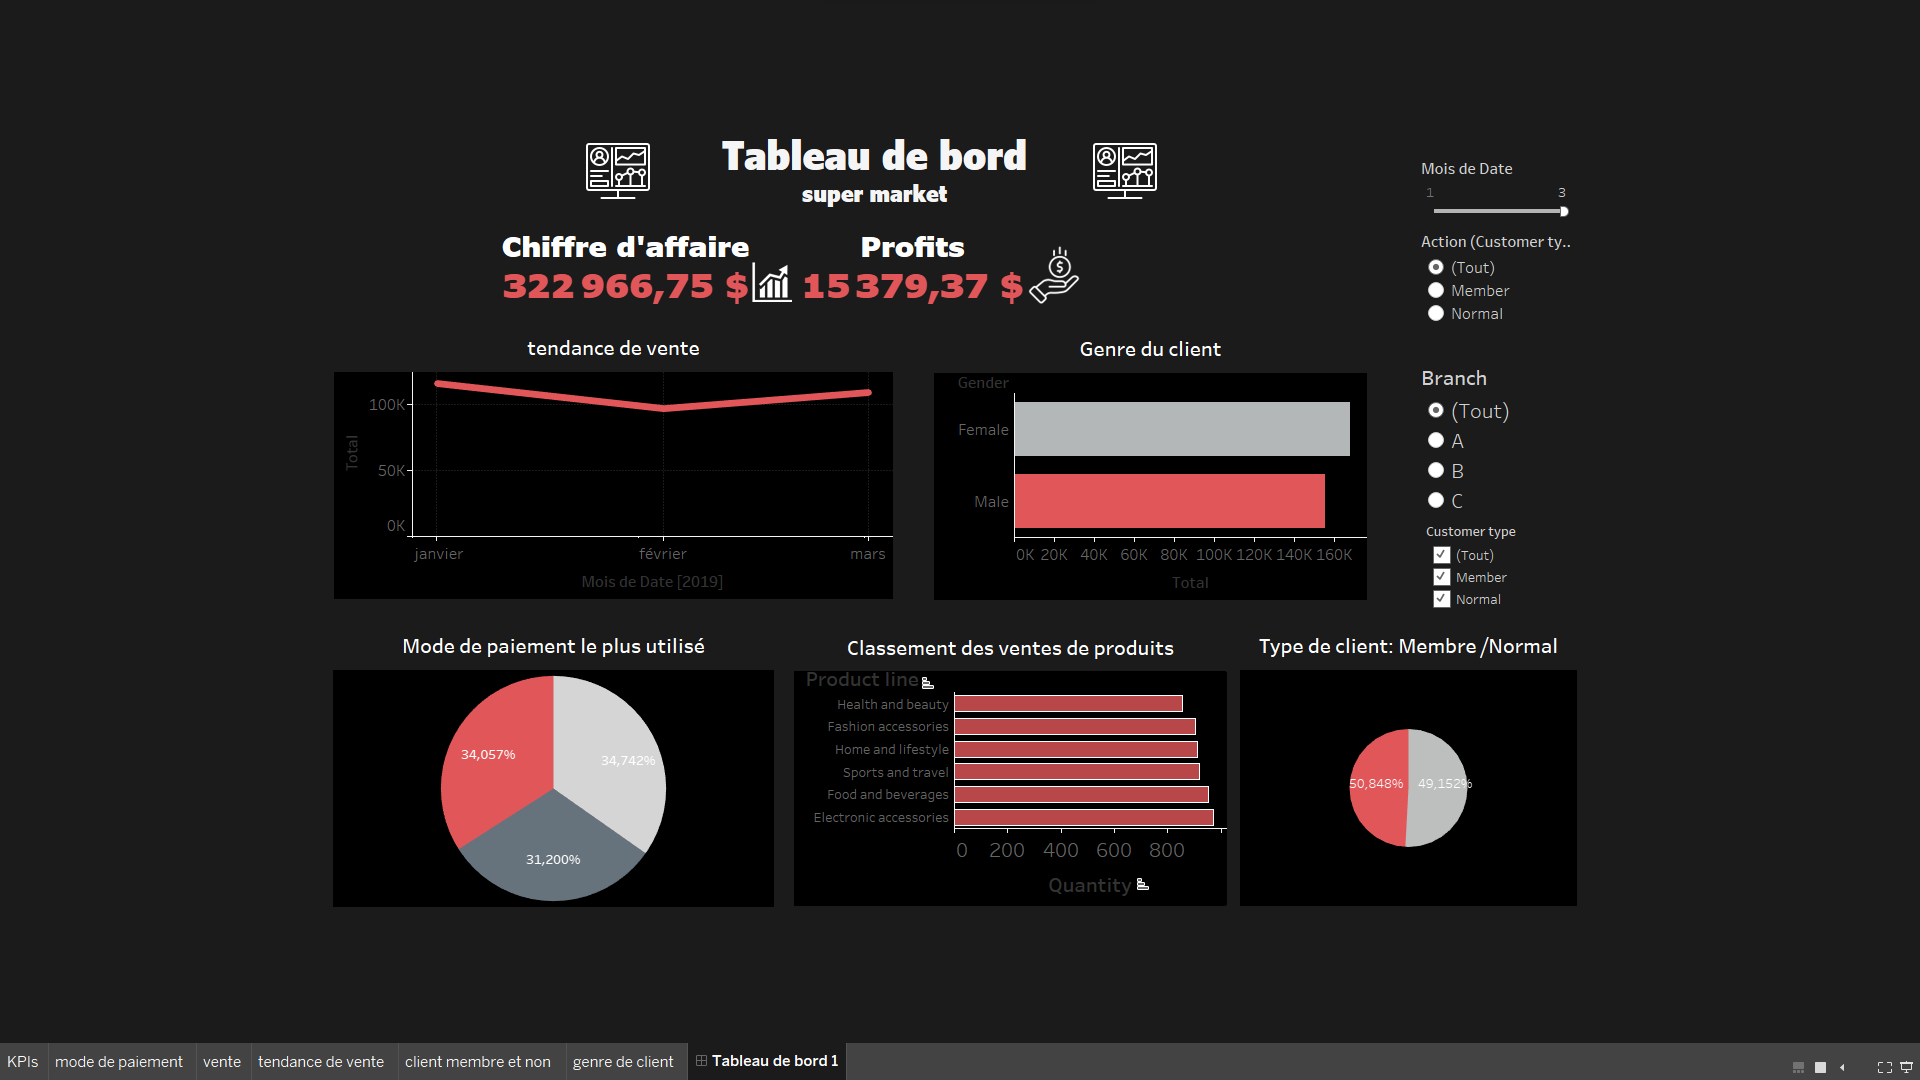

This screenshot's page, from the dashboard's own definition file:
{"tool":"tableau","page":{"name":"Tableau de bord 1","canvas":[1300,800],"ordinal":0},"visuals":[{"type":"text","box":[191,0,747,95]},{"type":"image","param":"C:/Users/MOHAND KACI/Downloads/tableau-de-bord.png","box":[276,18,64,64]},{"type":"image","param":"C:/Users/MOHAND~1/AppData/Local/Temp/TableauTemp/0su3c2v1vc13pi167nipf1xylqdx/Sh","box":[783,18,64,64]},{"type":"filter","title":"tendance de vente","param":"[federated.0w77sna0ha2ybp11vkbc11q6q89b].[mn:Date:qk]","box":[1107,33,160,73]},{"type":"worksheet","title":"KPIs","mark":"Automatic","box":[172,92,701,116]},{"type":"filter","title":"tendance de vente","param":"[federated.0w77sna0ha2ybp11vkbc11q6q89b].[Action (Customer type)]","box":[1107,106,160,105]},{"type":"image","param":"C:/Users/MOHAND KACI/Downloads/profit.png","box":[715,125,71,58]},{"type":"image","param":"C:/Users/MOHAND KACI/Desktop/icon-progress-white-400x400.png","box":[442,141,47,40]},{"type":"worksheet","title":"tendance de vente","mark":"Automatic","rows":["Total"],"cols":["Date"],"box":[24,208,559,270]},{"type":"worksheet","title":"genre de client","mark":"Automatic","rows":["Gender"],"cols":["Total"],"box":[624,209,433,270]},{"type":"filter","title":"vente","param":"[federated.0w77sna0ha2ybp11vkbc11q6q89b].[none:Branch:nk]","box":[1111,242,160,155]},{"type":"filter","title":"client membre et non","param":"[federated.0w77sna0ha2ybp11vkbc11q6q89b].[none:Customer type:nk]","box":[1116,401,160,91]},{"type":"worksheet","title":"mode de paiement","mark":"Pie","box":[23,506,441,280]},{"type":"worksheet","title":"client membre et non","mark":"Pie","box":[930,506,337,279]},{"type":"worksheet","title":"vente","mark":"Automatic","rows":["Product line"],"cols":["Quantity"],"box":[484,508,433,277]}]}

Visuals, with their boxes on the page's 1300x800 design canvas (x1, y1, x2, y2). These are canvas units, not pixel positions in the 1920x1080 screenshot, which may show the page scaled, cropped or inside an application window:
text: bbox=[191, 0, 938, 95]
image: bbox=[276, 18, 340, 82]
image: bbox=[783, 18, 847, 82]
"tendance de vente" filter: bbox=[1107, 33, 1267, 106]
"KPIs" worksheet: bbox=[172, 92, 873, 208]
"tendance de vente" filter: bbox=[1107, 106, 1267, 211]
image: bbox=[715, 125, 786, 183]
image: bbox=[442, 141, 489, 181]
"tendance de vente" worksheet: bbox=[24, 208, 583, 478]
"genre de client" worksheet: bbox=[624, 209, 1057, 479]
"vente" filter: bbox=[1111, 242, 1271, 397]
"client membre et non" filter: bbox=[1116, 401, 1276, 492]
"mode de paiement" worksheet (Pie marks): bbox=[23, 506, 464, 786]
"client membre et non" worksheet (Pie marks): bbox=[930, 506, 1267, 785]
"vente" worksheet: bbox=[484, 508, 917, 785]
